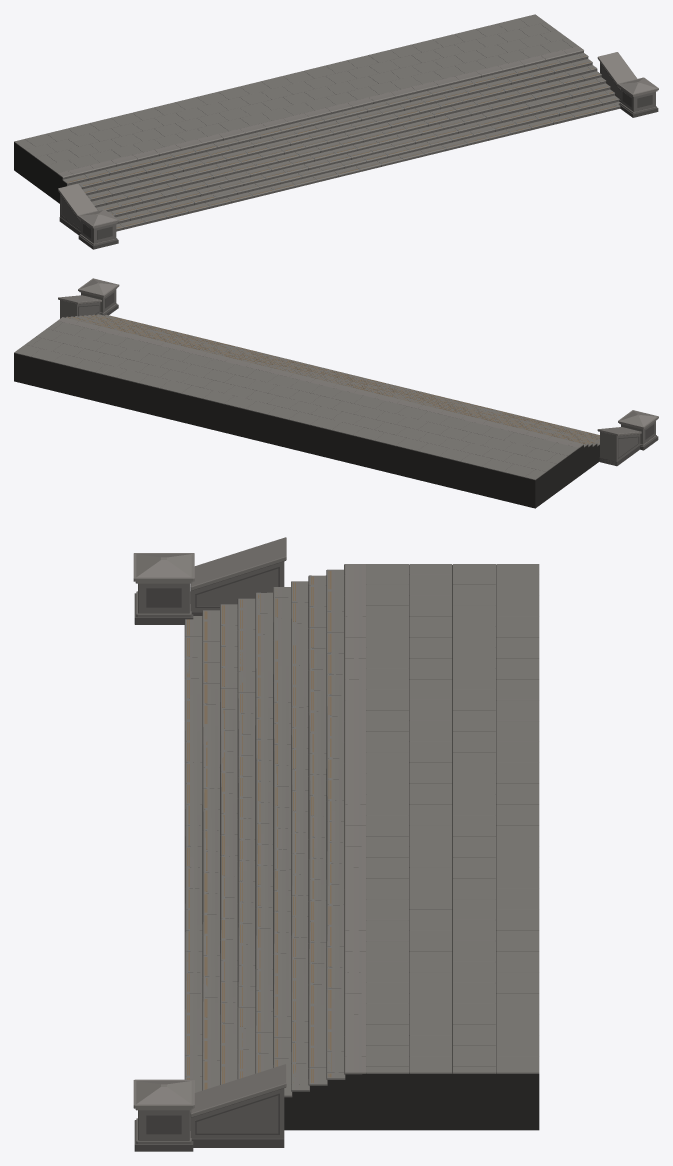
File: steps.glb
3 renders of one model, top to bottom at view 1: azimuth 30°, elevation 25°; view 2: azimuth 150°, elevation 25°; view 3: azimuth 270°, elevation 25°, orthographic. The views are drawn at different scales.
Parts seen in each view (by area): view 1: m17_steps; view 2: m17_steps; view 3: m17_steps.
Boxes of the visible parts, bbox=[...] form: m17_steps: bbox=[14, 14, 658, 249]; m17_steps: bbox=[14, 278, 658, 508]; m17_steps: bbox=[133, 537, 539, 1151].
Size of the model in its own units: 36.92 by 2.05 by 11.46.
